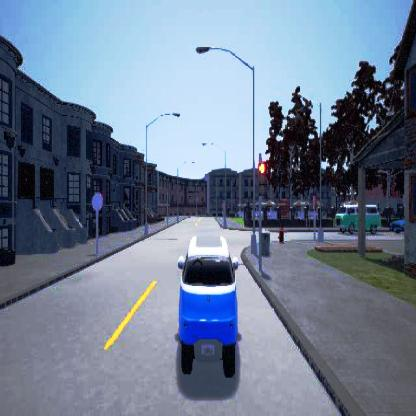vehicle: (177, 234, 238, 377), (334, 200, 380, 234)
